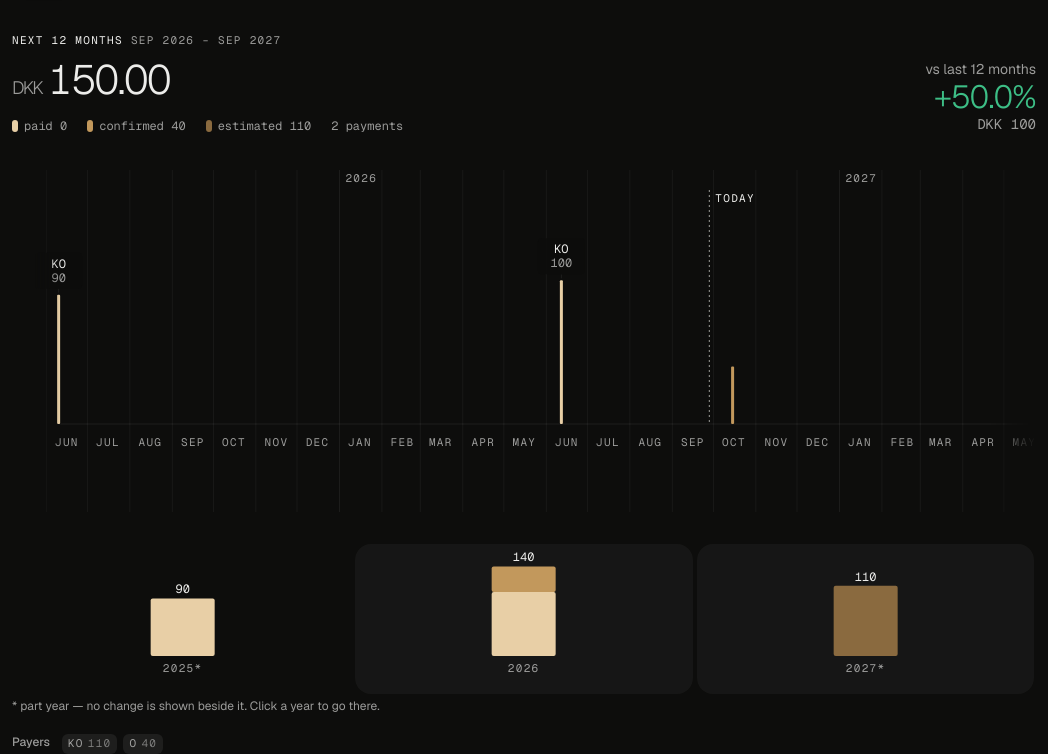
Scenario: IncomeTape › leaves an Esc another layer already handled
The width and height of the screenshot is (1048, 754).
(page scrolled)
Step 1. Click the button "KO 110" → (90,742), box [62,730,118,753]
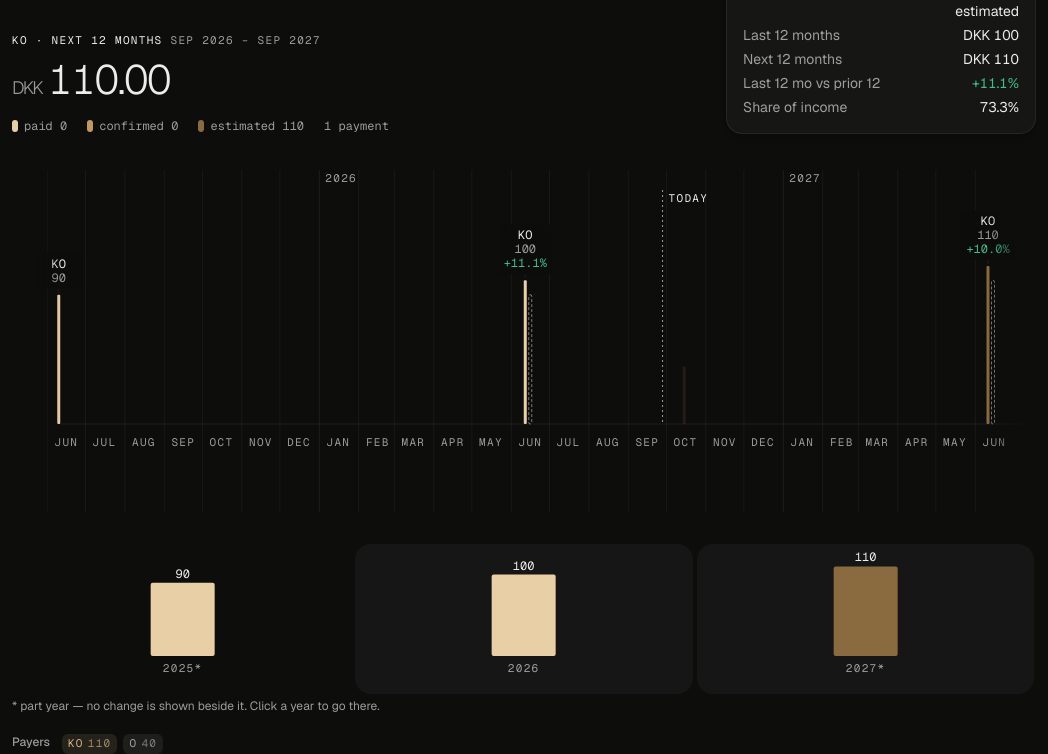
Expected: the text "KO · Next 12 months" is shown, [12,33,162,48]
